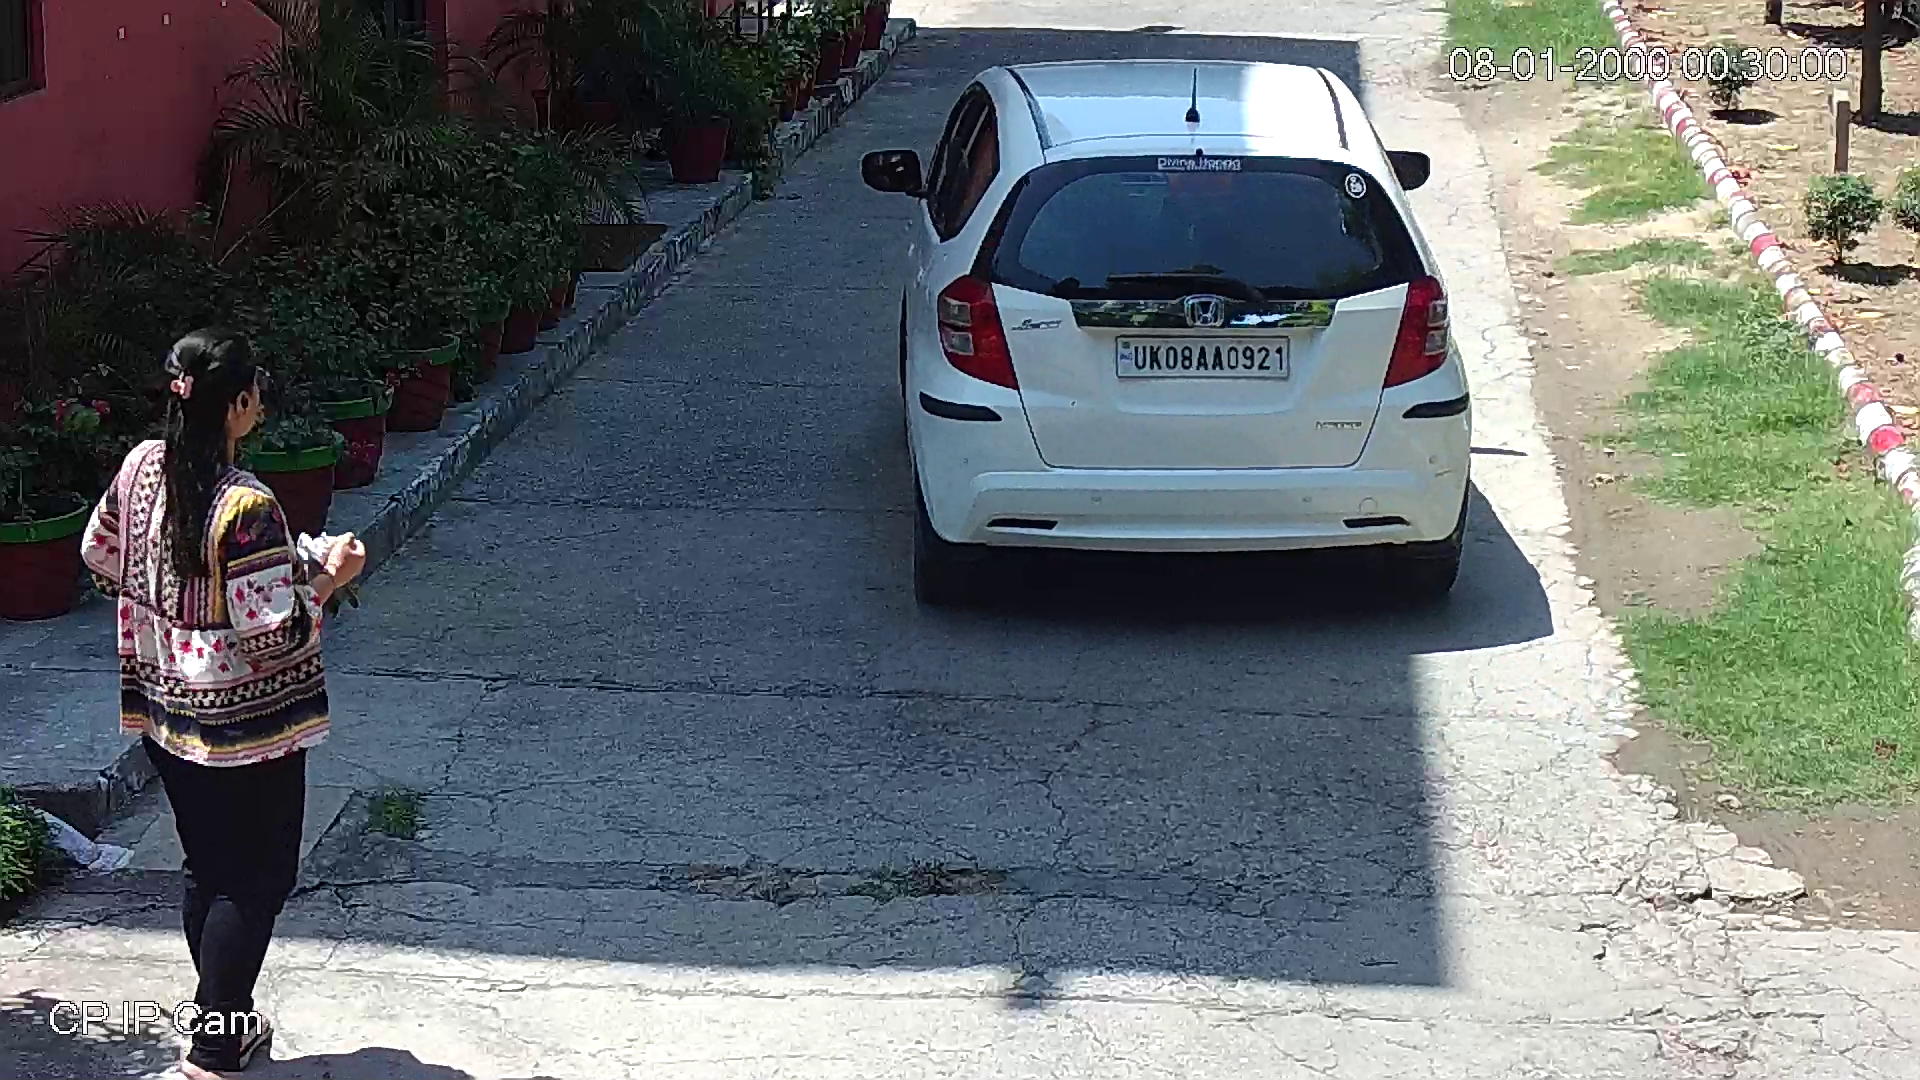plate: (1110, 329, 1298, 383)
